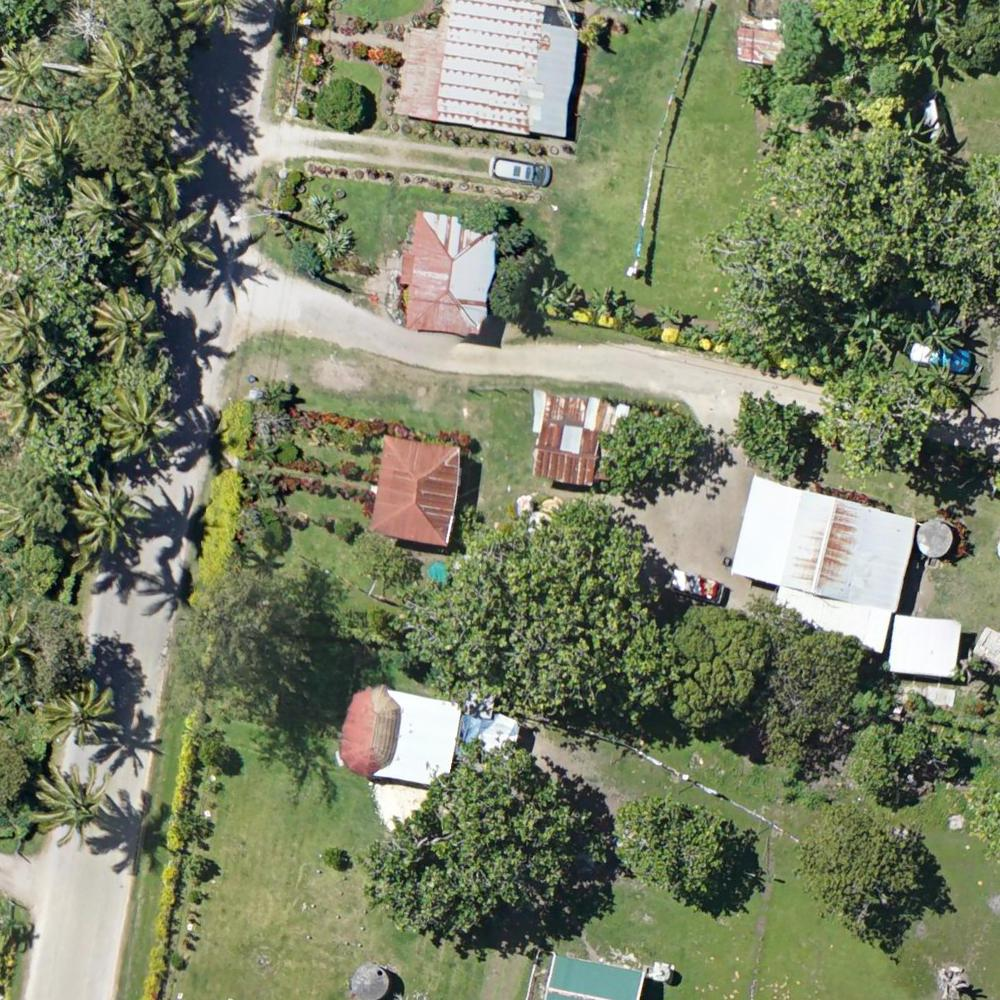Palm: (98, 386, 181, 463), (71, 474, 142, 550), (93, 285, 163, 362), (37, 682, 116, 750), (36, 765, 104, 843), (141, 214, 213, 284), (89, 28, 157, 102), (19, 112, 76, 174), (69, 174, 125, 234), (3, 46, 56, 107)
